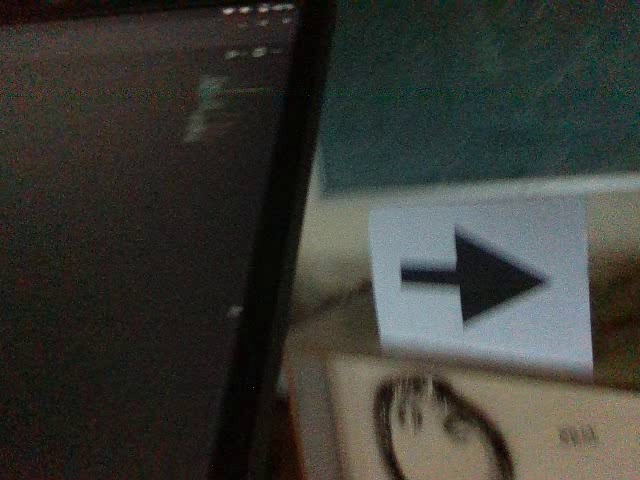Right: (390, 215, 558, 332)
